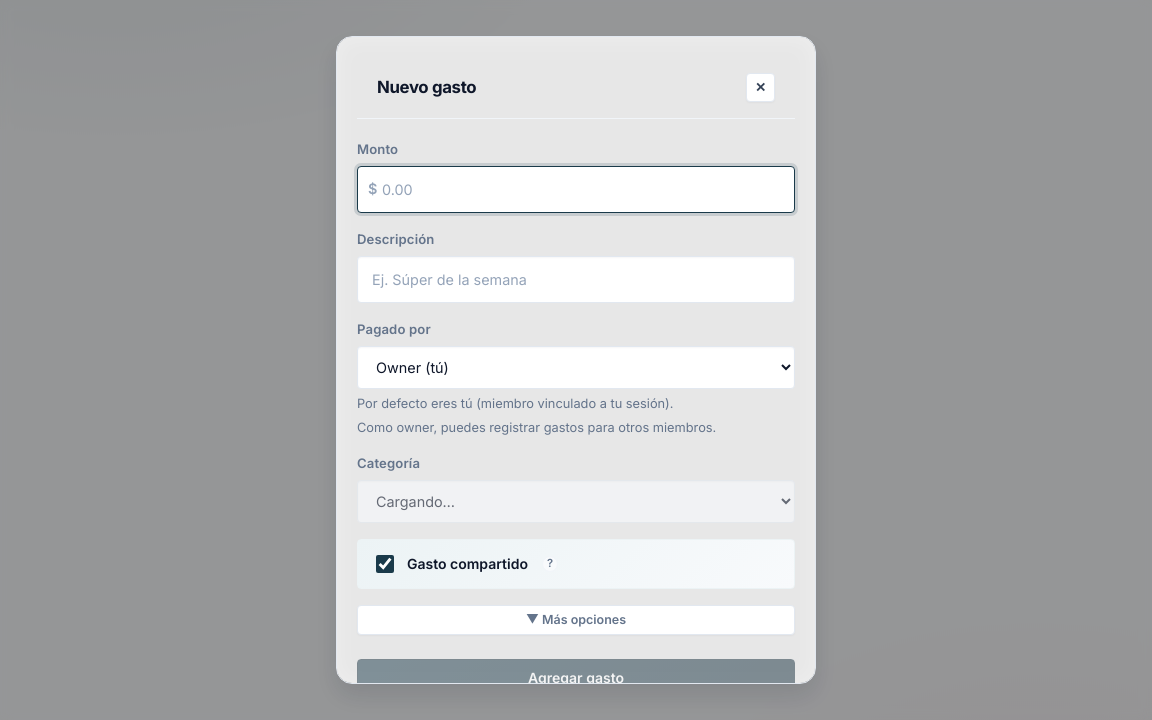
Test: ExpenseModal › does not allow selecting fixed expense type in general expense flow
This screenshot has width=1152, height=720.
Click the button "▼ Más opciones": (576, 620) 357,605 -> 795,635
(page scrolled)
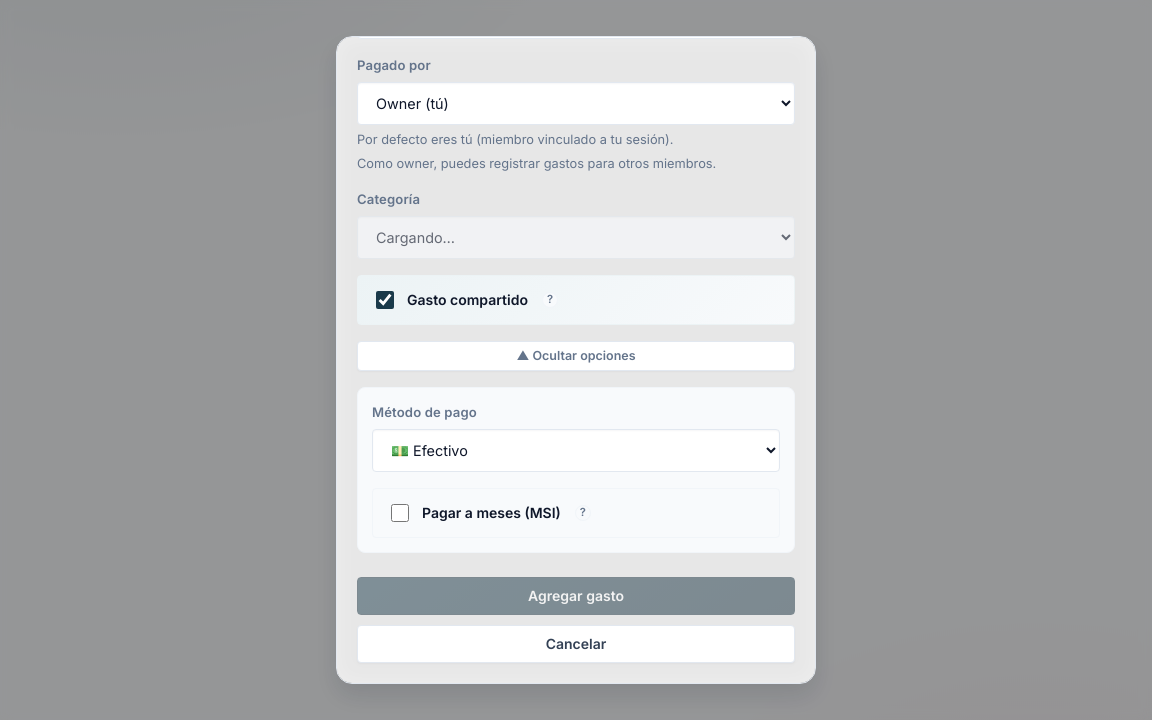
expect the checkbox labelled "Pagar a meses (MSI) ?" is not checked: met
Click the checkbox labelled "Pagar a meses (MSI) ?": (400, 513) 391,504 -> 409,522
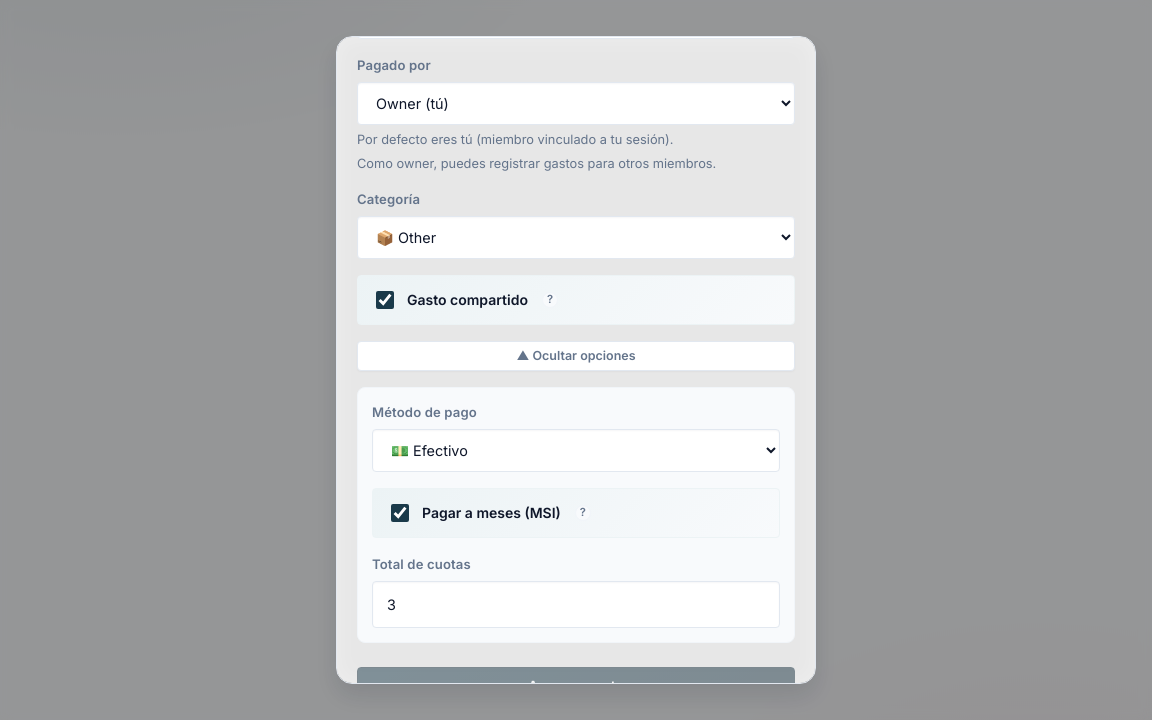
expect the number field labelled "Total de cuotas" is shown: met, box 372,581 -> 780,628
